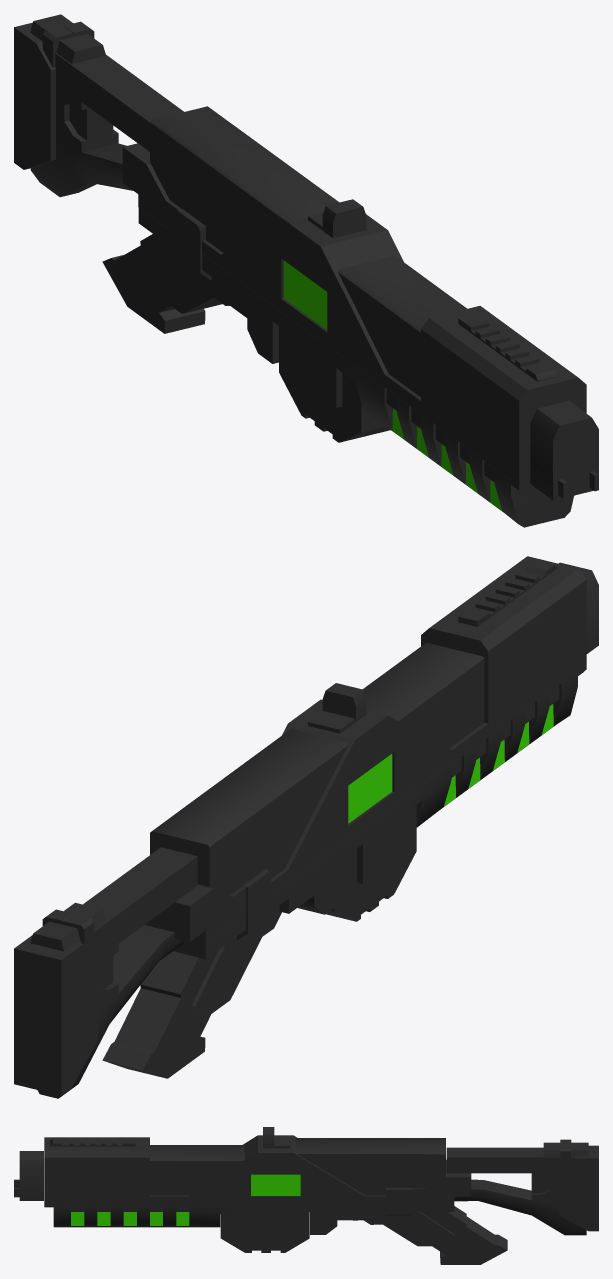
File: Armes.fbx
3 renders of one model, top to bottom at view 1: azimuth 30°, elevation 25°; view 2: azimuth 150°, elevation 25°; view 3: azimuth 270°, elevation 25°, orthographic. The views are drawn at different scales.
Visible parts, largest first — view 1: Laser_Rifle.001; view 2: Laser_Rifle.001; view 3: Laser_Rifle.001.
Part boxes in pixels (box(x1,y1,x2,y2)): Laser_Rifle.001: box(14, 14, 598, 527); Laser_Rifle.001: box(14, 556, 598, 1098); Laser_Rifle.001: box(14, 1127, 598, 1264).
Size of the model in its own units: 8.29 by 26.82 by 110.
